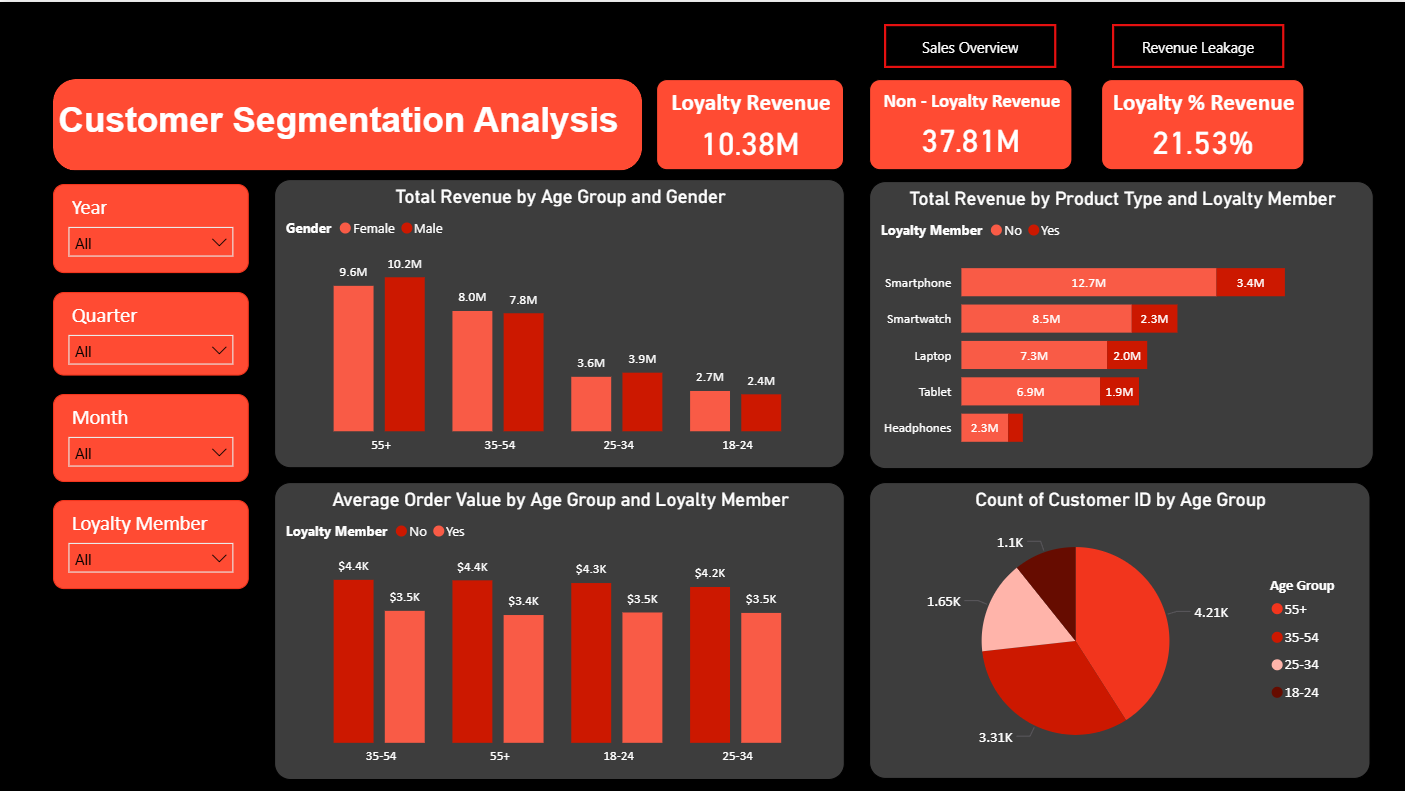

This screenshot's page, from the dashboard's own definition file:
{"tool":"powerbi","page":{"name":"Customer Segmentation","canvas":[1280,720],"ordinal":1},"visuals":[{"type":"card","title":"Loyalty Revenue","fields":{"Values":["_measures.Loyalty Revenue"]},"box":[596.8,69.9,171.1,83.3],"z":0},{"type":"card","title":"Non - Loyalty Revenue","fields":{"Values":["_measures.Non-Loyalty Revenue"]},"box":[790.1,70.1,185,83],"z":1000},{"type":"card","title":"Loyalty % Revenue","fields":{"Values":["_measures.Loyalty % of Revenue"]},"box":[1001.1,70.1,185,83],"z":2000},{"type":"clusteredColumnChart","fields":{"Category":["Electronics Sales.Age Group"],"Series":["Electronics Sales.Gender"],"Y":["_measures.Total Revenue"]},"box":[248.9,161.2,518.9,263.3],"z":3000},{"type":"barChart","fields":{"Category":["Electronics Sales.Product Type"],"Series":["Electronics Sales.Loyalty Member"],"Y":["_measures.Total Revenue"]},"box":[790,162.3,458.9,262.2],"z":4000},{"type":"clusteredColumnChart","fields":{"Category":["Electronics Sales.Age Group"],"Series":["Electronics Sales.Loyalty Member"],"Y":["_measures.Average Order Value"]},"box":[248.9,436,518.9,271.1],"z":5000},{"type":"pieChart","fields":{"Category":["Electronics Sales.Age Group"],"Y":["Count(Electronics Sales.Customer ID)"]},"box":[790,436,455.6,270],"z":6000},{"type":"slicer","fields":{"Values":["Electronics Sales.Loyalty Member"]},"box":[47.8,452.3,177.8,81.1],"z":7000},{"type":"slicer","fields":{"Values":["Date Table.Year"]},"box":[47.8,165.7,177.8,81.1],"z":8000},{"type":"shape","box":[47.9,69.9,535.6,83.3],"z":9000},{"type":"textbox","box":[47.8,84.4,695.6,52.2],"z":10000},{"type":"slicer","fields":{"Values":["Date Table.Quarter"]},"box":[47.8,263.4,177.8,75.6],"z":11000},{"type":"slicer","fields":{"Values":["Date Table.Month"]},"box":[47.8,356.8,177.8,80],"z":12000},{"type":"actionButton","box":[1011.1,20,156.7,40],"z":13000},{"type":"actionButton","box":[803.3,20,156.7,40],"z":14000}]}

Visuals, with their boxes in screenshot pixels (x1, y1, x2, y2), scaled from the page's 1280x720 canvas onto the 1405x791 screenshot:
"Loyalty Revenue" card: pyautogui.locateOnScreen(655, 77, 843, 168)
"Non - Loyalty Revenue" card: pyautogui.locateOnScreen(867, 77, 1070, 168)
"Loyalty % Revenue" card: pyautogui.locateOnScreen(1099, 77, 1302, 168)
clusteredColumnChart - Electronics Sales.Age Group x Electronics Sales.Gender: pyautogui.locateOnScreen(273, 177, 843, 466)
barChart - Electronics Sales.Product Type x Electronics Sales.Loyalty Member: pyautogui.locateOnScreen(867, 178, 1371, 466)
clusteredColumnChart - Electronics Sales.Age Group x Electronics Sales.Loyalty Member: pyautogui.locateOnScreen(273, 479, 843, 777)
pieChart - Electronics Sales.Age Group x Count(Electronics Sales.Customer ID): pyautogui.locateOnScreen(867, 479, 1367, 776)
slicer - Electronics Sales.Loyalty Member: pyautogui.locateOnScreen(52, 497, 248, 586)
slicer - Date Table.Year: pyautogui.locateOnScreen(52, 182, 248, 271)
shape: pyautogui.locateOnScreen(53, 77, 640, 168)
textbox: pyautogui.locateOnScreen(52, 93, 816, 150)
slicer - Date Table.Quarter: pyautogui.locateOnScreen(52, 289, 248, 372)
slicer - Date Table.Month: pyautogui.locateOnScreen(52, 392, 248, 480)
actionButton: pyautogui.locateOnScreen(1110, 22, 1282, 66)
actionButton: pyautogui.locateOnScreen(882, 22, 1054, 66)
